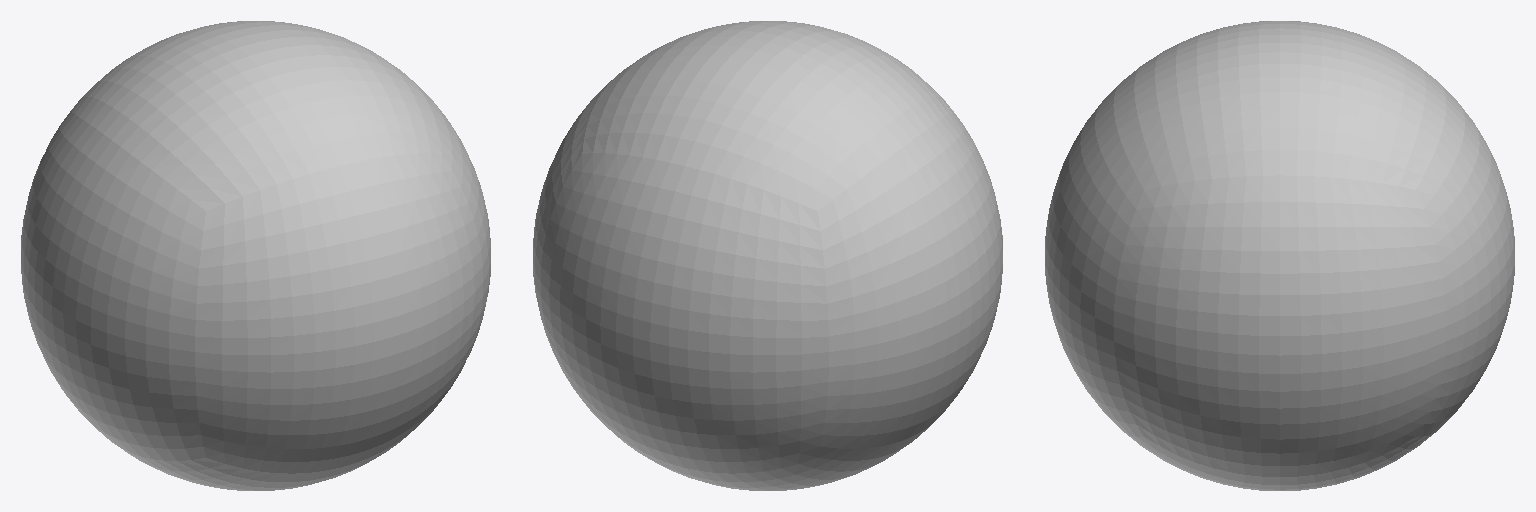
The picture shows the model from 3 angles: view 1: azimuth 30°, elevation 25°; view 2: azimuth 150°, elevation 25°; view 3: azimuth 270°, elevation 25°; orthographic projection.
Parts seen in each view (by area): view 1: UnrealEdObject; view 2: UnrealEdObject; view 3: UnrealEdObject.
Part boxes in pixels (bbox=[...]): UnrealEdObject: bbox=[21, 21, 490, 490]; UnrealEdObject: bbox=[533, 21, 1002, 490]; UnrealEdObject: bbox=[1045, 21, 1514, 490].
Bounding box in the file's own units: 2 × 2 × 2.